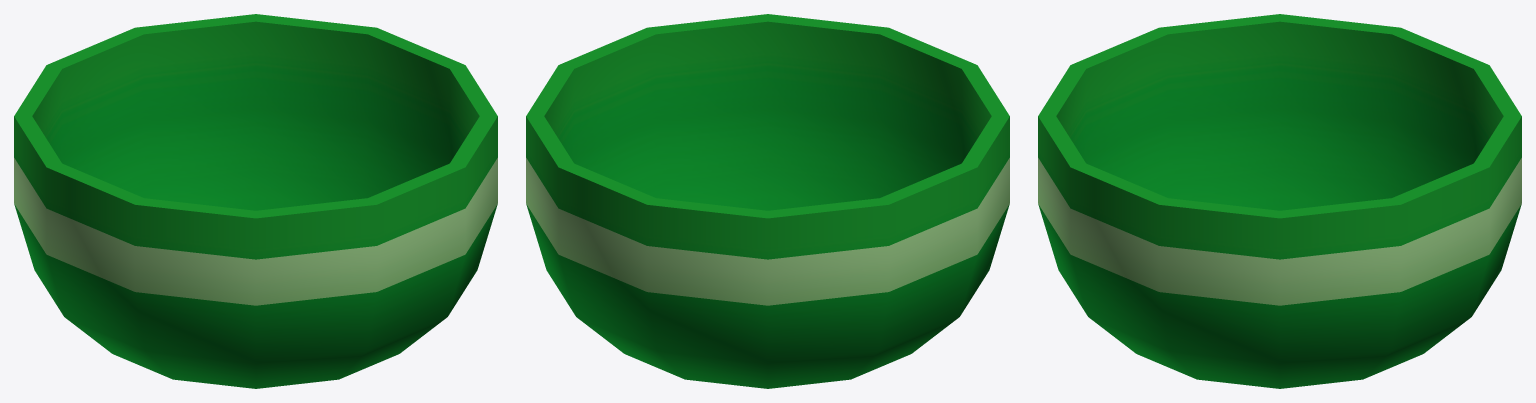
The model's file is Salad_bowl_03.1.fbx.
3 renders of one model, left to right at view 1: azimuth 30°, elevation 25°; view 2: azimuth 150°, elevation 25°; view 3: azimuth 270°, elevation 25°, orthographic.
Parts seen in each view (by area): view 1: Salad_bowl_03.1; view 2: Salad_bowl_03.1; view 3: Salad_bowl_03.1.
Part boxes in pixels (x1,y1,x2,y2): Salad_bowl_03.1: (14, 14, 497, 388); Salad_bowl_03.1: (526, 14, 1009, 388); Salad_bowl_03.1: (1038, 14, 1521, 388).
Size of the model in its own units: 50.92 by 50.92 by 25.61.
